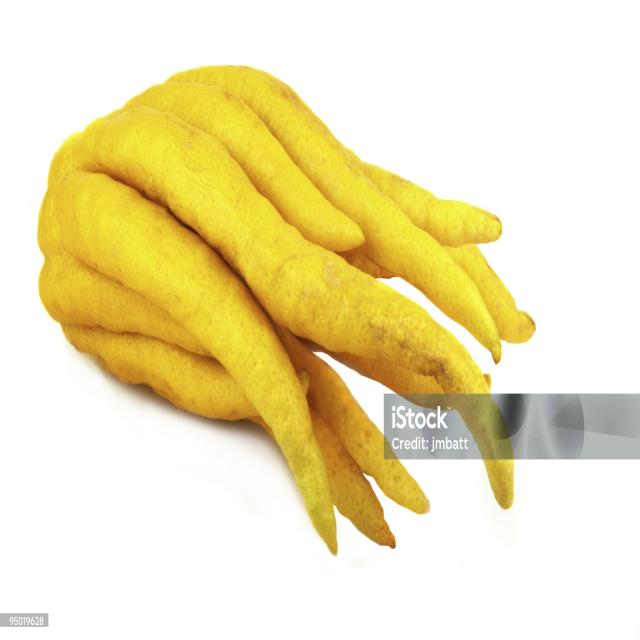PhatThu: (34, 60, 534, 555)
